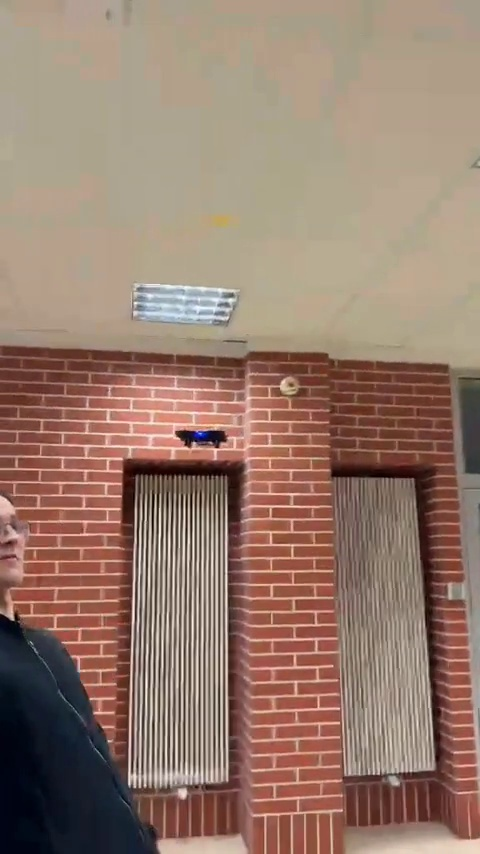drone: (173, 426, 228, 449)
no vest: (0, 488, 156, 854)
